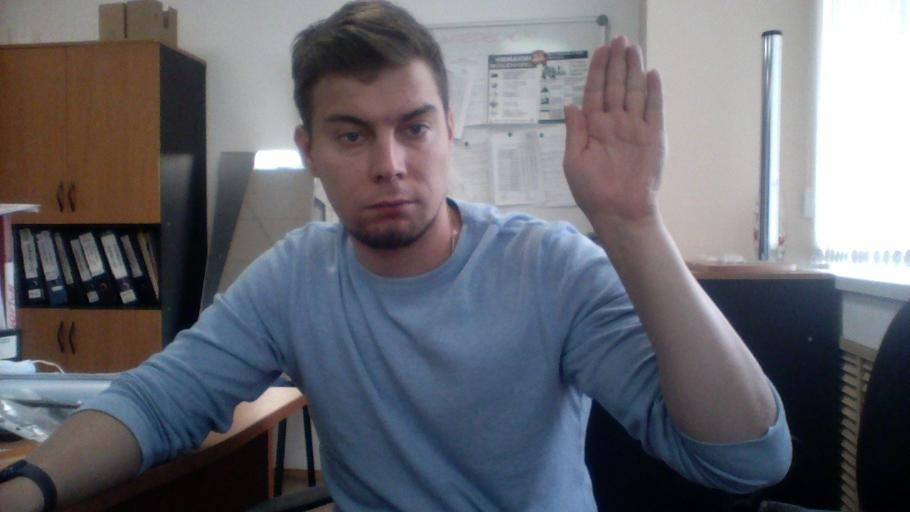stop: (558, 30, 669, 218)
